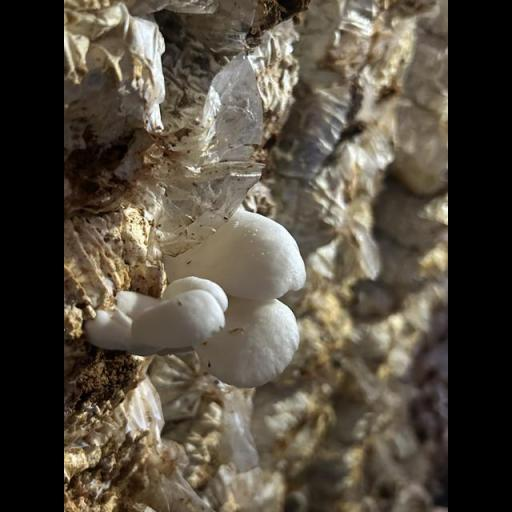White Oyster Mushroom: (88, 209, 304, 384)
